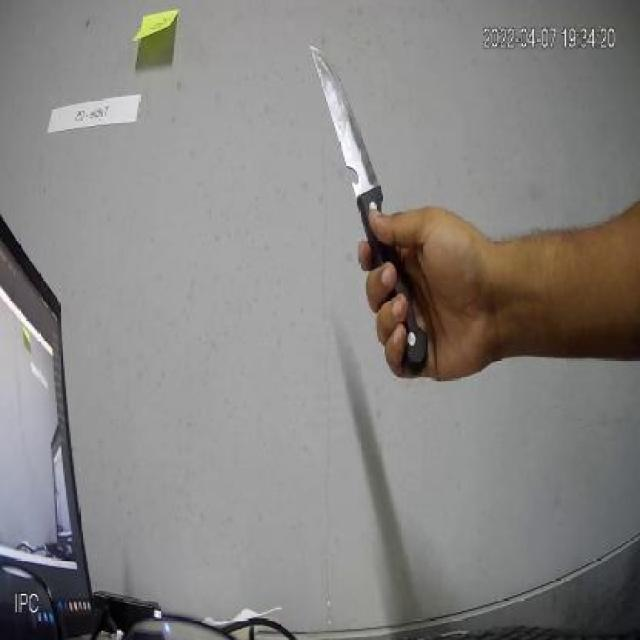Knife: (298, 38, 436, 370)
